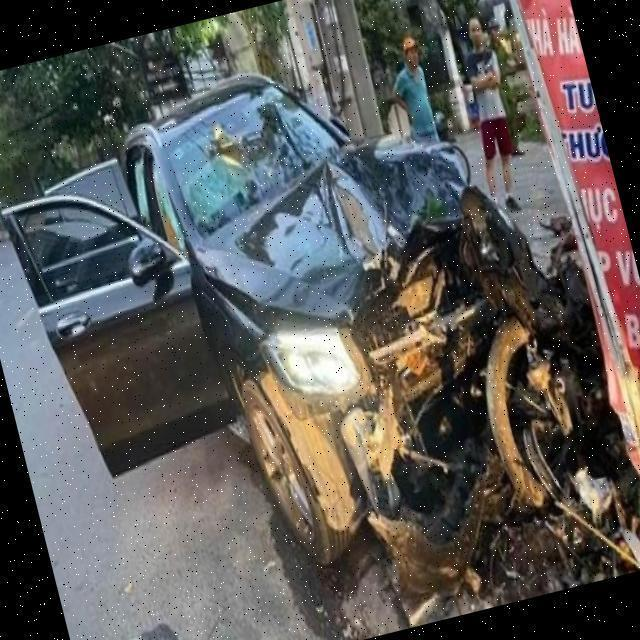accident: (116, 19, 640, 633)
